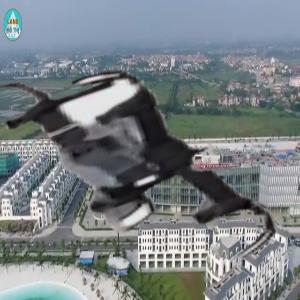drone: (7, 36, 271, 300)
